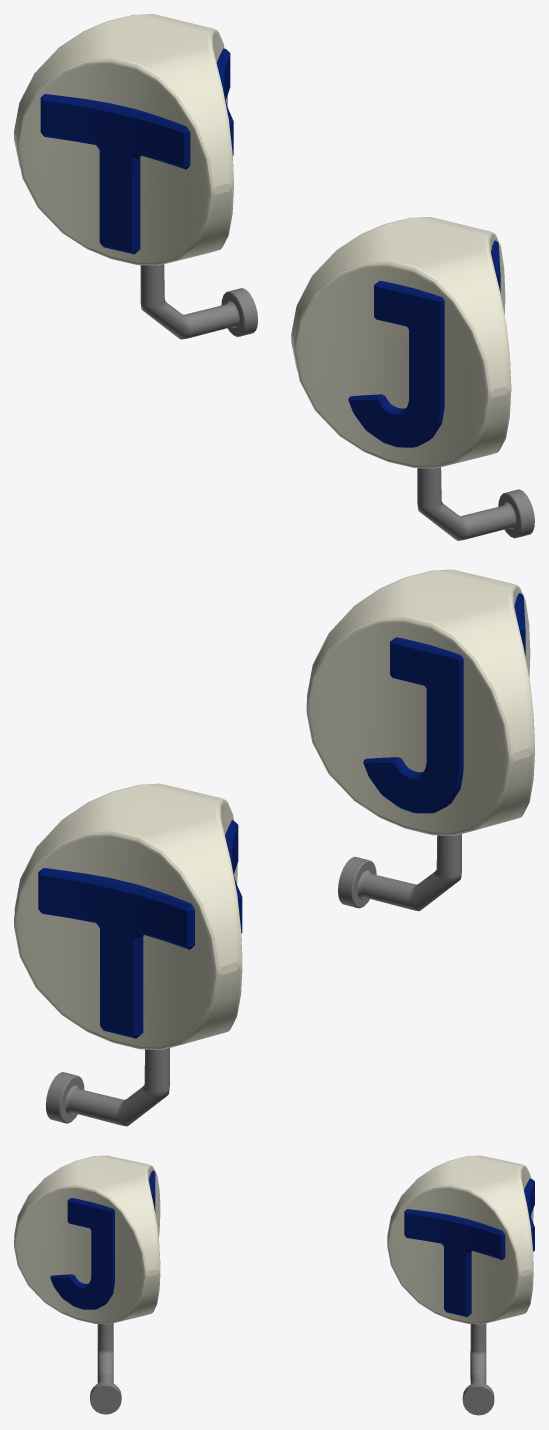
Rendered from tbana skylt.fbx.
3 renders of one model, top to bottom at view 1: azimuth 30°, elevation 25°; view 2: azimuth 150°, elevation 25°; view 3: azimuth 270°, elevation 25°, orthographic. The views are drawn at different scales.
Parts seen in each view (by area): view 1: pendeltag, tbana, T2, J2, pole_tbana, pole_pendeltag, T3; view 2: pendeltag, tbana, T1, J1, pole_tbana, pole_pendeltag, T2; view 3: pendeltag, tbana, T3, J3, pole_tbana, pole_pendeltag, T1.
Boxes of the visible parts, bbox=[...] form: pendeltag: bbox=[291, 217, 511, 468]; tbana: bbox=[14, 14, 233, 265]; T2: bbox=[40, 94, 190, 254]; J2: bbox=[348, 281, 444, 447]; pole_tbana: bbox=[140, 264, 257, 339]; pole_pendeltag: bbox=[417, 467, 534, 540]; T3: bbox=[216, 48, 233, 155]; pendeltag: bbox=[306, 569, 534, 835]; tbana: bbox=[14, 783, 242, 1049]; T1: bbox=[38, 868, 194, 1038]; J1: bbox=[363, 637, 463, 813]; pole_tbana: bbox=[45, 1048, 169, 1126]; pole_pendeltag: bbox=[338, 834, 461, 911]; T2: bbox=[225, 820, 242, 933]; pendeltag: bbox=[14, 1155, 160, 1324]; tbana: bbox=[387, 1155, 533, 1324]; T3: bbox=[404, 1209, 505, 1316]; J3: bbox=[50, 1198, 114, 1309]; pole_tbana: bbox=[462, 1323, 494, 1415]; pole_pendeltag: bbox=[90, 1323, 121, 1414]; T1: bbox=[524, 1178, 534, 1251].
Bounding box in the file's own units: 2.17 × 3.08 × 6.84.
